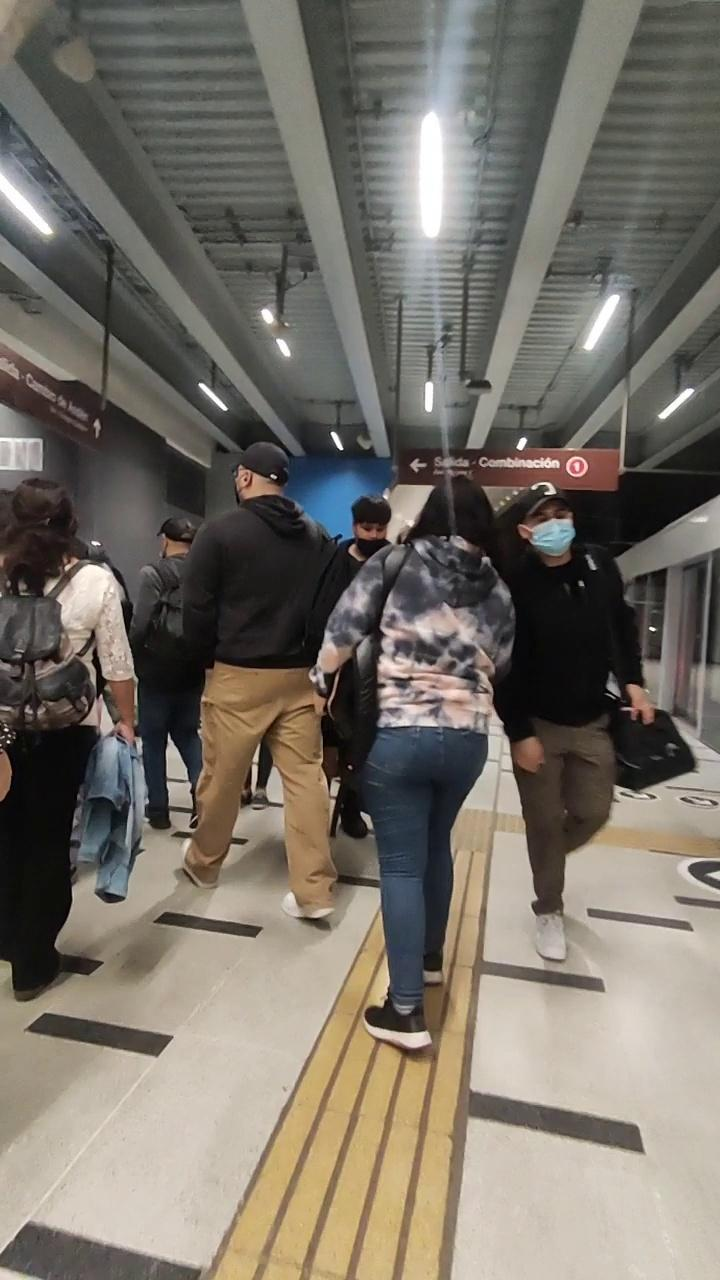left arrow: (406, 454, 431, 474)
up arrow: (89, 415, 104, 442)
